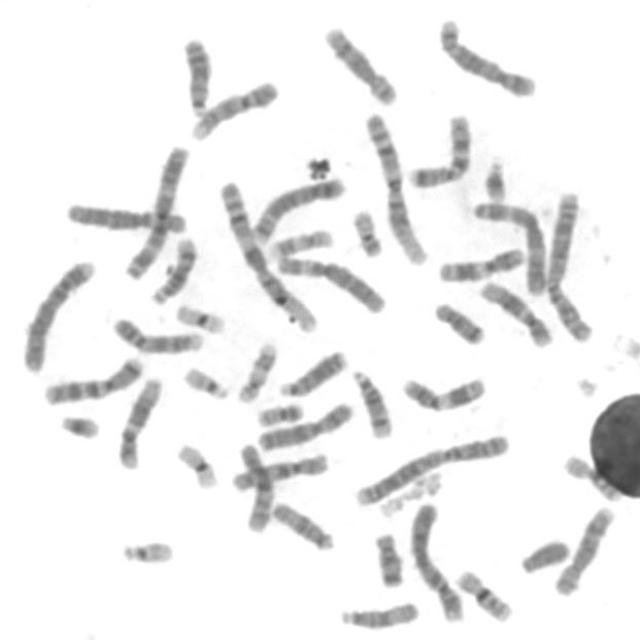A1: (214, 174, 324, 336), (361, 106, 433, 266)
A2: (350, 427, 514, 509), (540, 184, 599, 344)
A3: (120, 138, 194, 282), (468, 193, 551, 297)
B4: (15, 252, 99, 374), (406, 495, 470, 624)
B5: (434, 10, 541, 100), (248, 169, 350, 245)
C10: (228, 446, 334, 494), (233, 436, 277, 534)
C11: (434, 239, 529, 284), (398, 368, 490, 414)
C12: (475, 274, 559, 349), (113, 369, 167, 471)
C6: (270, 248, 390, 315), (60, 195, 192, 236)
C7: (38, 349, 150, 406), (403, 107, 477, 189)
C8: (319, 19, 403, 107), (550, 499, 620, 598)
C9: (186, 73, 284, 142), (108, 310, 208, 355)
D13: (275, 342, 353, 399), (178, 29, 216, 117)
D14: (146, 229, 201, 306), (347, 362, 398, 440)
D15: (267, 494, 339, 553), (335, 594, 424, 631)
E16: (452, 562, 518, 624), (560, 448, 626, 503)
E17: (233, 334, 281, 405), (264, 222, 337, 260)
E18: (430, 295, 490, 346), (370, 525, 409, 589)
F19: (172, 437, 223, 490), (171, 297, 230, 335)
F20: (348, 202, 388, 259), (253, 396, 308, 428)
G21: (479, 149, 512, 203), (55, 406, 105, 441)
G22: (179, 359, 234, 401), (116, 532, 178, 566)
X: (252, 394, 358, 453)
Y: (515, 531, 574, 576)
